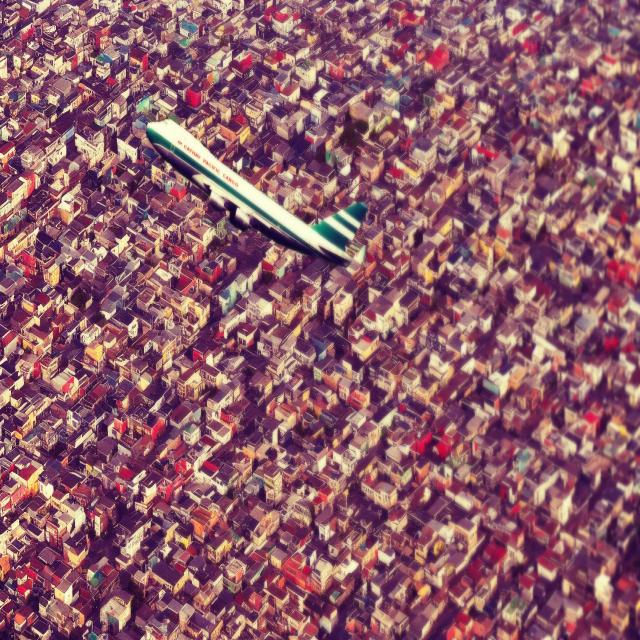airplane: (146, 117, 368, 266)
